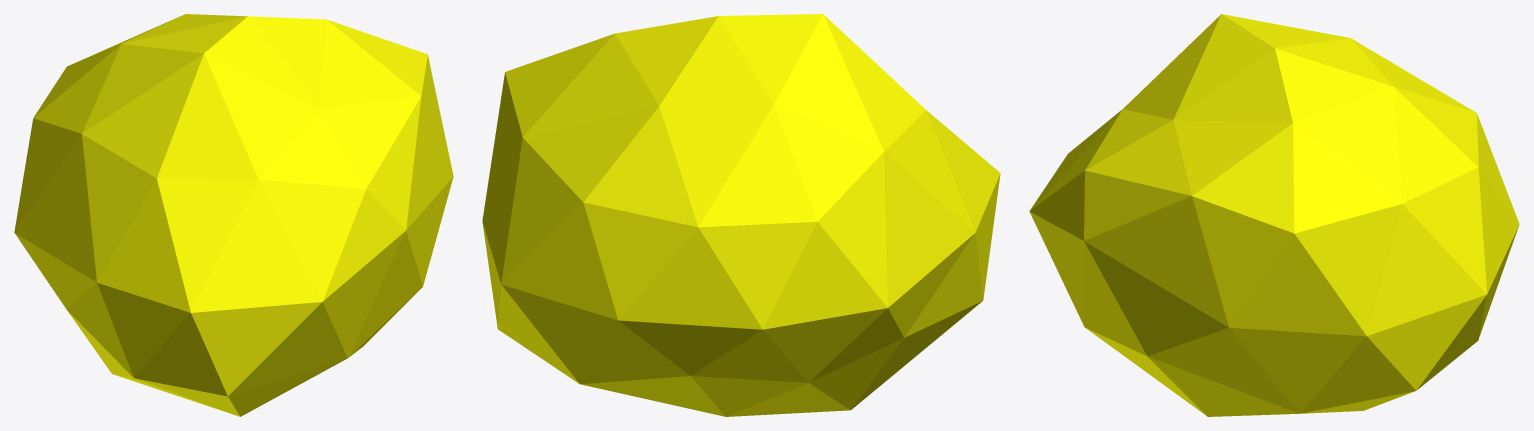
Rendered from simple_bush.glb.
3 renders of one model, left to right at view 1: azimuth 30°, elevation 25°; view 2: azimuth 150°, elevation 25°; view 3: azimuth 270°, elevation 25°, orthographic. The views are drawn at different scales.
Parts seen in each view (by area): view 1: simple_bush; view 2: simple_bush; view 3: simple_bush.
Boxes of the visible parts, left/top/right/bottom form: simple_bush: left=14, top=14, right=453, bottom=416; simple_bush: left=482, top=14, right=1000, bottom=416; simple_bush: left=1029, top=14, right=1519, bottom=416.
Bounding box in the file's own units: 3.22 × 2.65 × 3.52.
1 material, 1 textured.
